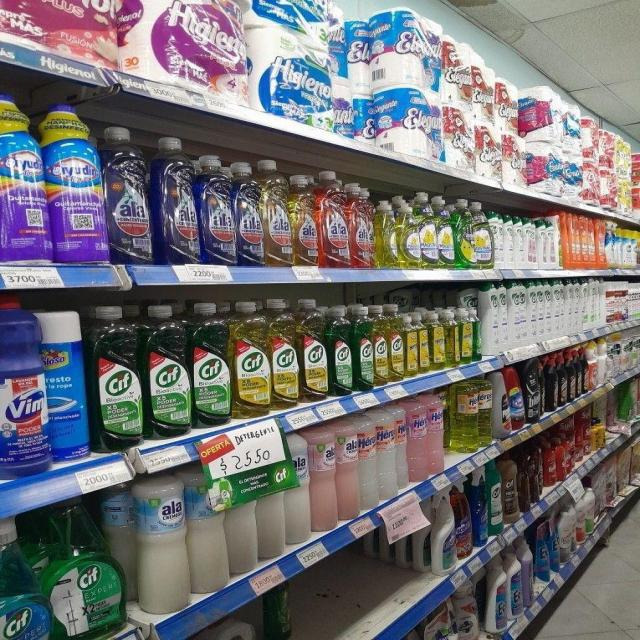ala_conc_amarillo: (263, 158, 292, 267), (292, 171, 318, 267)
ala_conc_azul: (106, 126, 151, 264), (154, 135, 197, 265), (198, 152, 236, 266), (236, 158, 263, 266)
ala_conc_rojo: (319, 171, 349, 268), (350, 182, 374, 269)
ala_crem_blanco: (135, 474, 187, 614)
ala_crem_rosado: (310, 428, 336, 532), (336, 418, 358, 521)
cif_conc_bot_amarilla: (232, 300, 270, 418), (270, 297, 298, 410), (299, 298, 327, 403), (373, 305, 388, 386), (388, 304, 403, 382), (404, 311, 418, 377)
cif_conc_botella_verde: (91, 305, 142, 451), (144, 303, 190, 439), (191, 301, 231, 427), (327, 304, 352, 396), (352, 305, 372, 391)
heroe: (408, 393, 427, 482), (427, 391, 445, 478), (503, 453, 517, 520), (431, 309, 444, 371)
magistral_con_amarillo: (398, 193, 419, 269), (376, 198, 398, 268), (419, 191, 437, 270)
